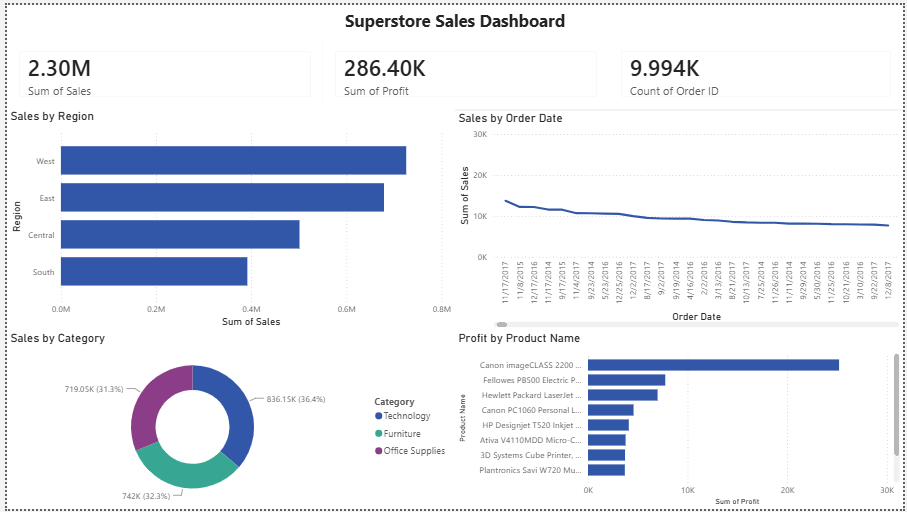

This screenshot's page, from the dashboard's own definition file:
{"tool":"powerbi","page":{"name":"Page 1","canvas":[1280,720],"ordinal":0},"visuals":[{"type":"cardVisual","fields":{"Data":["Sum(Sample - Superstore.Sales)"]},"box":[0,48.6,451.4,100],"z":0},{"type":"cardVisual","fields":{"Data":["Sum(Sample - Superstore.Profit)"]},"box":[451.4,48.6,408.6,100],"z":1000},{"type":"cardVisual","fields":{"Data":["CountNonNull(Sample - Superstore.Order ID)"]},"box":[860,48.6,420,100],"z":2000},{"type":"clusteredBarChart","title":"Sales by Region","fields":{"Category":["Sample - Superstore.Region"],"Y":["Sum(Sample - Superstore.Sales)"]},"box":[0,148.6,640,317.1],"z":3000},{"type":"lineChart","title":"Sales by Order Date","fields":{"Category":["Sample - Superstore.Order Date"],"Y":["Sum(Sample - Superstore.Sales)"]},"box":[640,151.4,640,314.3],"z":4000},{"type":"donutChart","title":"Sales by Category","fields":{"Category":["Sample - Superstore.Category"],"Y":["Sum(Sample - Superstore.Sales)"]},"box":[0,465,640,255],"z":5000},{"type":"clusteredBarChart","title":"Profit by Product Name","fields":{"Category":["Sample - Superstore.Product Name"],"Y":["Sum(Sample - Superstore.Profit)"]},"box":[640,465.7,640,254.3],"z":6000},{"type":"textbox","box":[0,0,1280,48.6],"z":7000}]}

Visuals, with their boxes in screenshot pixels (x1, y1, x2, y2), scaled from the page's 1280x720 canvas onto the 907x512 screenshot:
cardVisual - Sum(Sample - Superstore.Sales): select_region(0, 35, 320, 106)
cardVisual - Sum(Sample - Superstore.Profit): select_region(320, 35, 609, 106)
cardVisual - CountNonNull(Sample - Superstore.Order ID): select_region(609, 35, 906, 106)
"Sales by Region" clusteredBarChart: select_region(0, 106, 454, 331)
"Sales by Order Date" lineChart: select_region(454, 108, 906, 331)
"Sales by Category" donutChart: select_region(0, 331, 454, 511)
"Profit by Product Name" clusteredBarChart: select_region(454, 331, 906, 511)
textbox: select_region(0, 0, 906, 35)
